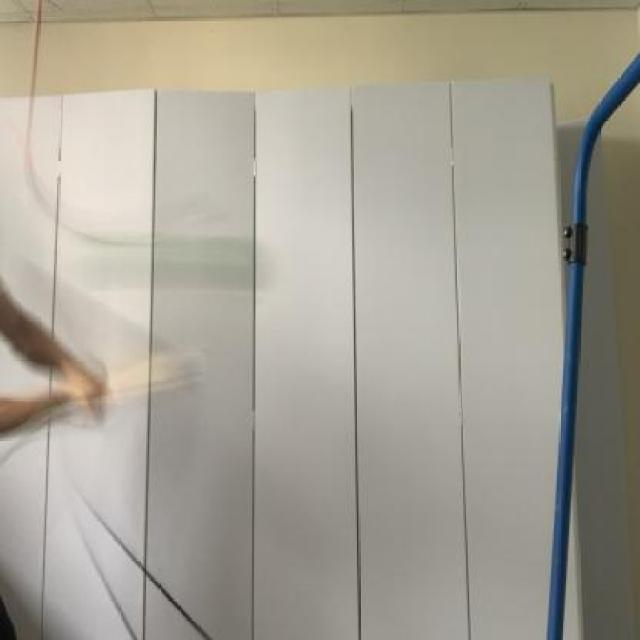baseball: (126, 227, 269, 307)
